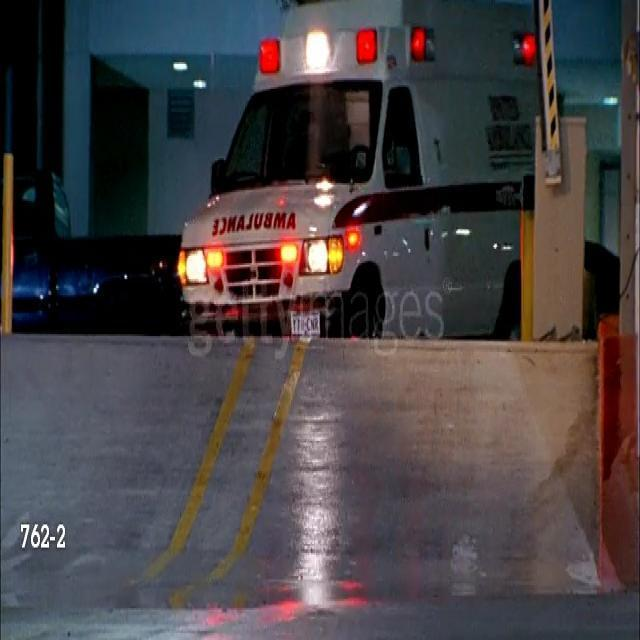emergency: (170, 1, 464, 332)
